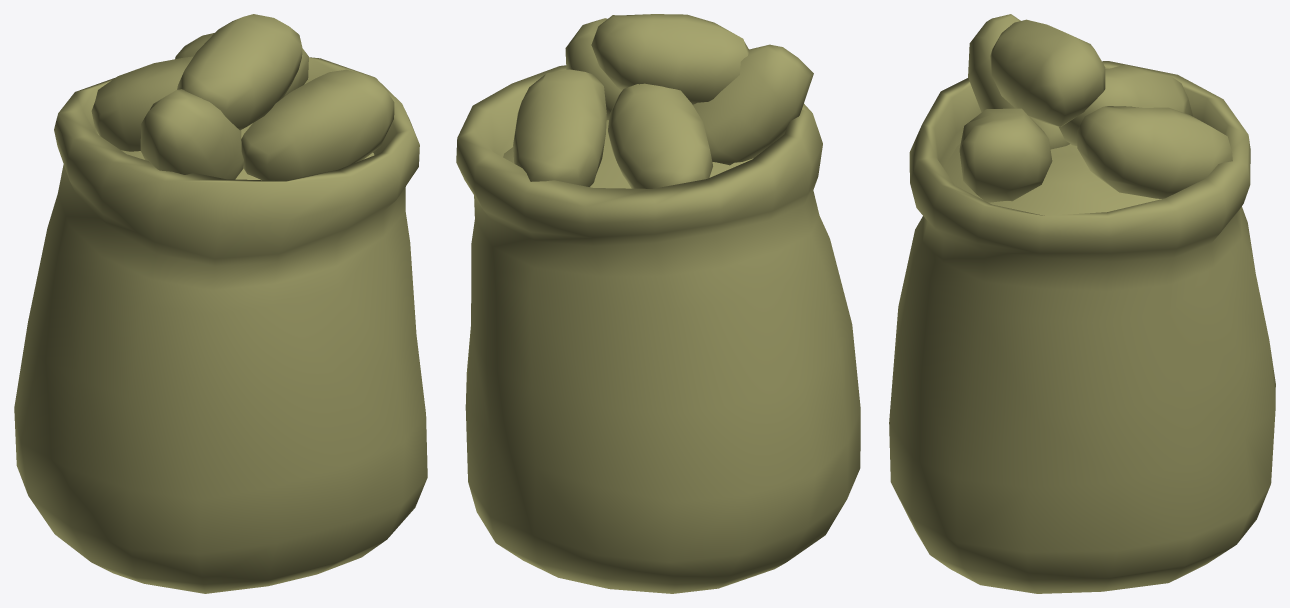
File: Bag_Open_01_Lod0.fbx
The picture shows the model from 3 angles, left to right: view 1: azimuth 30°, elevation 25°; view 2: azimuth 150°, elevation 25°; view 3: azimuth 270°, elevation 25°; orthographic projection.
Visible parts, largest first — view 1: Bag_Open_01_Lod0; view 2: Bag_Open_01_Lod0; view 3: Bag_Open_01_Lod0.
Boxes of the visible parts, x1=… form: Bag_Open_01_Lod0: x1=14, y1=14, x2=427, y2=593; Bag_Open_01_Lod0: x1=456, y1=14, x2=860, y2=593; Bag_Open_01_Lod0: x1=889, y1=14, x2=1275, y2=593.
Size of the model in its own units: 47.86 by 67.33 by 45.88.
